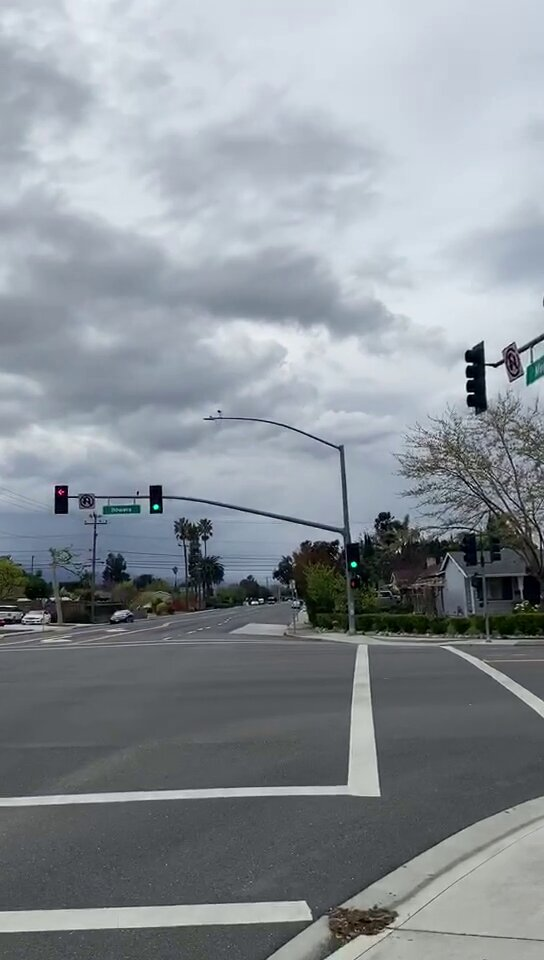green_light: (346, 546, 359, 573), (151, 487, 163, 511)
